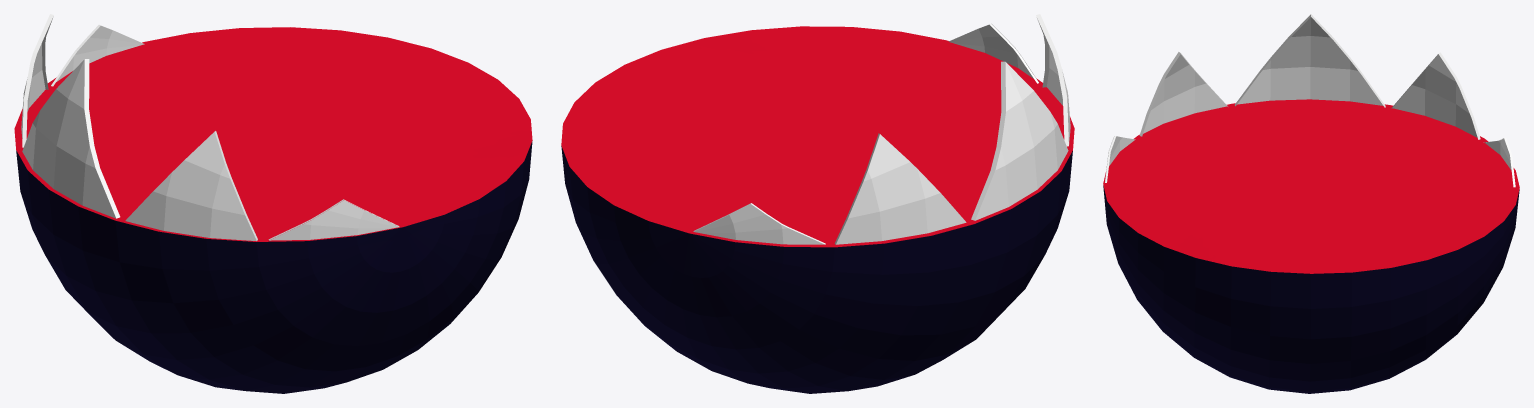
The model's file is MandibulaInf.obj.
The picture shows the model from 3 angles, left to right: view 1: azimuth 30°, elevation 25°; view 2: azimuth 150°, elevation 25°; view 3: azimuth 270°, elevation 25°; orthographic projection. The views are drawn at different scales.
Parts seen in each view (by area): view 1: MandibulaInf:Mesh; view 2: MandibulaInf:Mesh; view 3: MandibulaInf:Mesh.
Part boxes in pixels (<box>): MandibulaInf:Mesh: <box>14,14,532,393</box>; MandibulaInf:Mesh: <box>561,14,1074,393</box>; MandibulaInf:Mesh: <box>1103,14,1519,393</box>.
Bounding box in the file's own units: 1.08 × 0.8184 × 1.08.
1 material, 1 textured.
